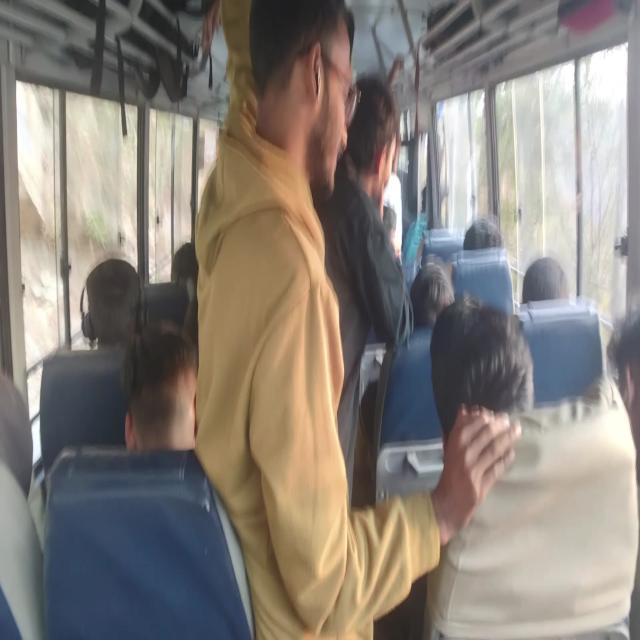person: (244, 25, 356, 206), (139, 315, 214, 480), (428, 314, 523, 434), (68, 269, 164, 382), (348, 72, 416, 212), (0, 380, 68, 508), (599, 328, 640, 480), (411, 260, 462, 358), (174, 235, 227, 302), (531, 257, 573, 341), (408, 167, 452, 224), (475, 212, 506, 266)
